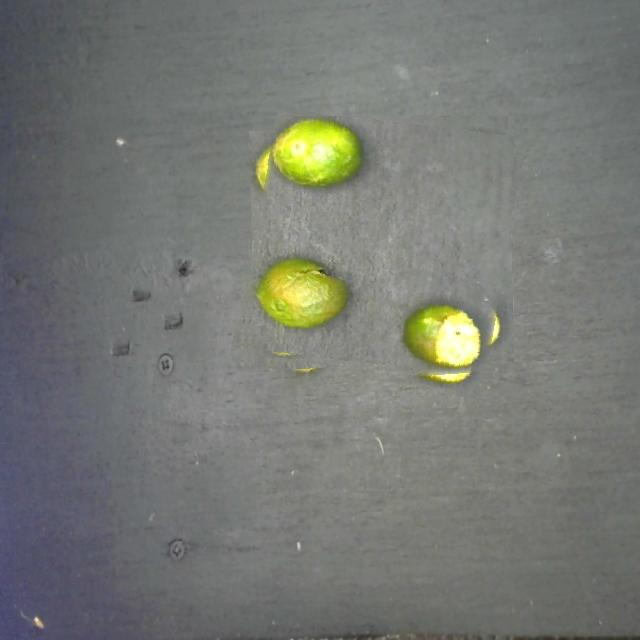biodegradable: (241, 116, 514, 389)
